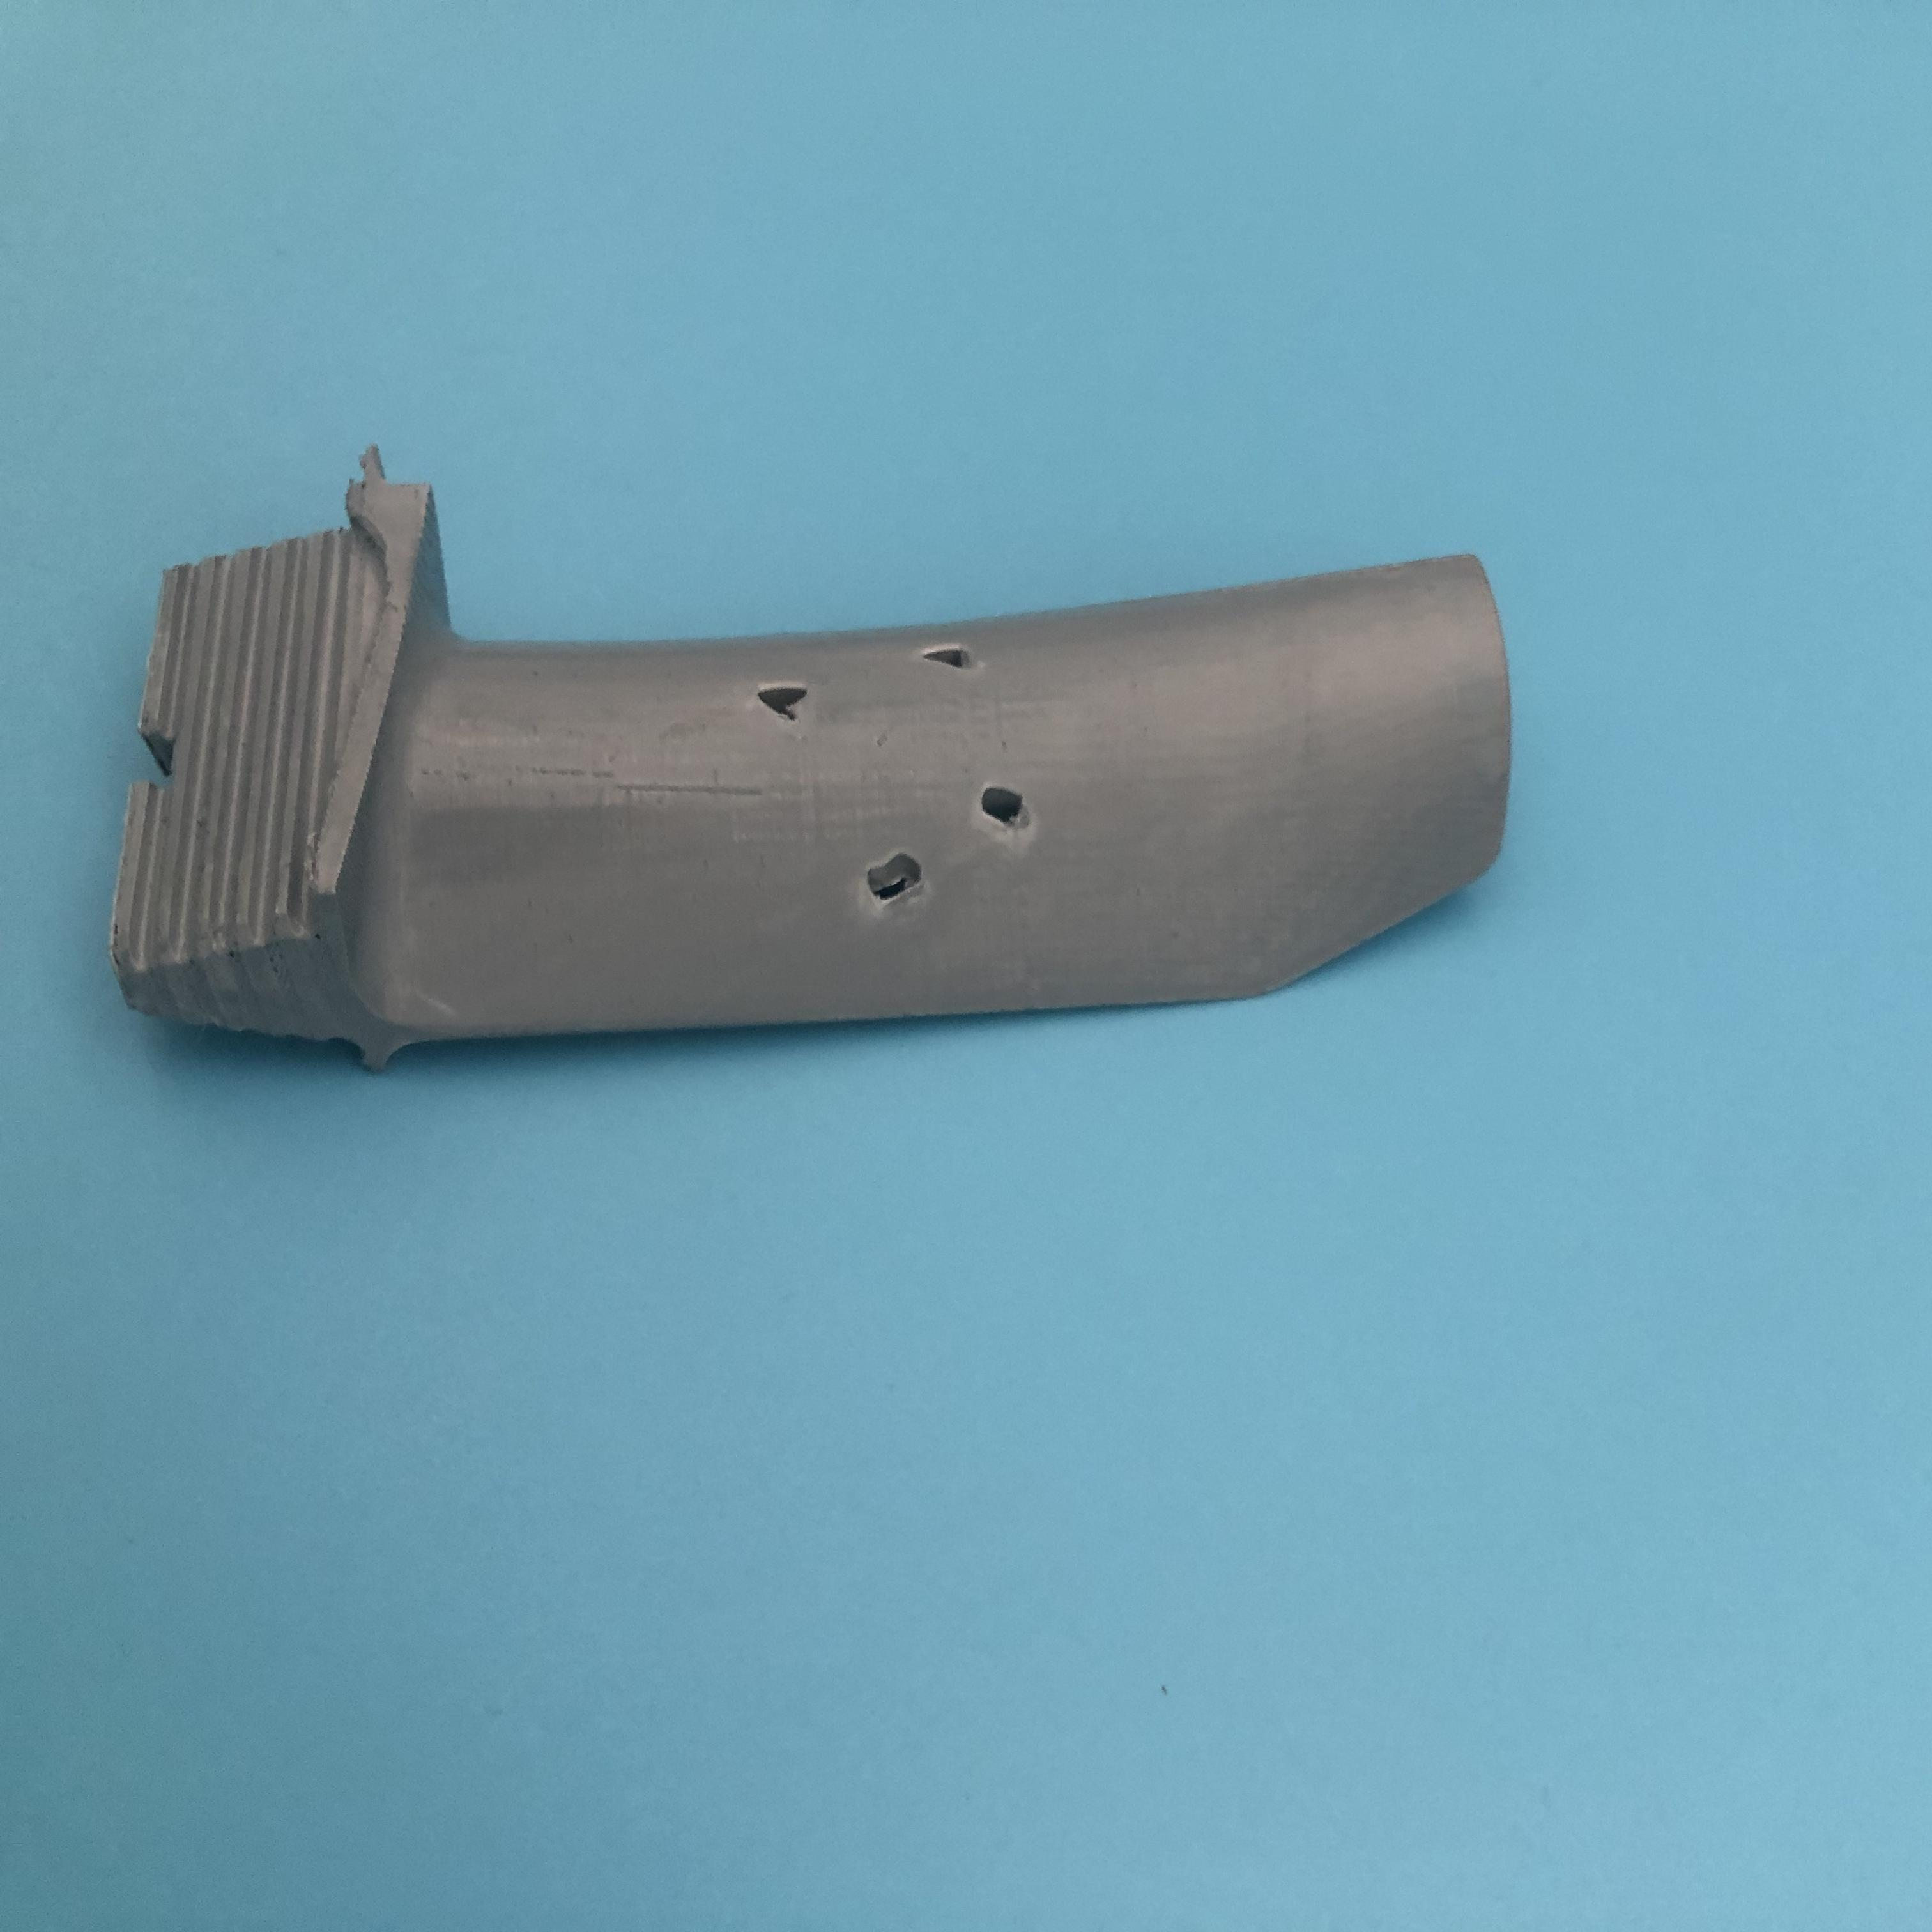breakdown: (858, 778, 1051, 924), (754, 637, 1012, 704)
